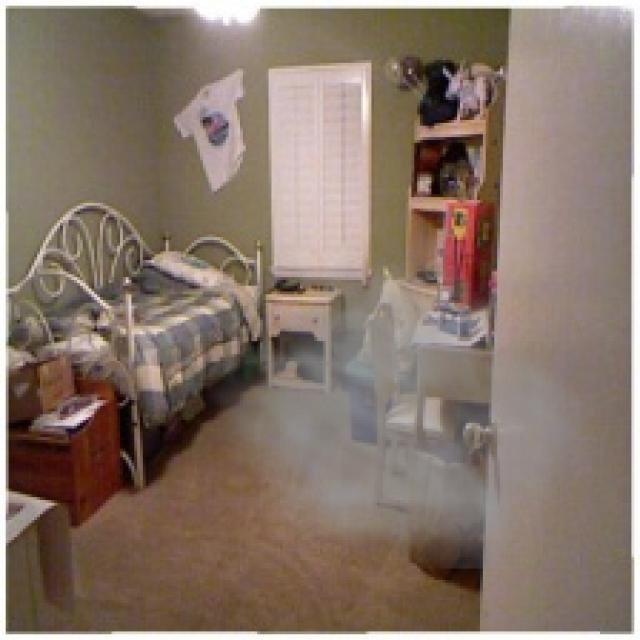smoke: (194, 223, 609, 568)
